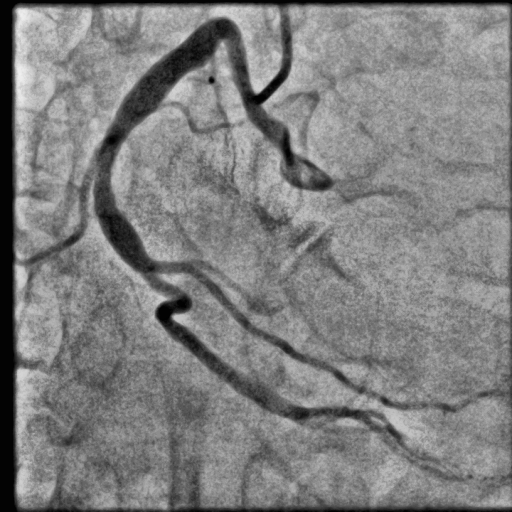pborca: (304, 406, 439, 463)
pda: (300, 418, 369, 435)
rca: (93, 17, 307, 423)
